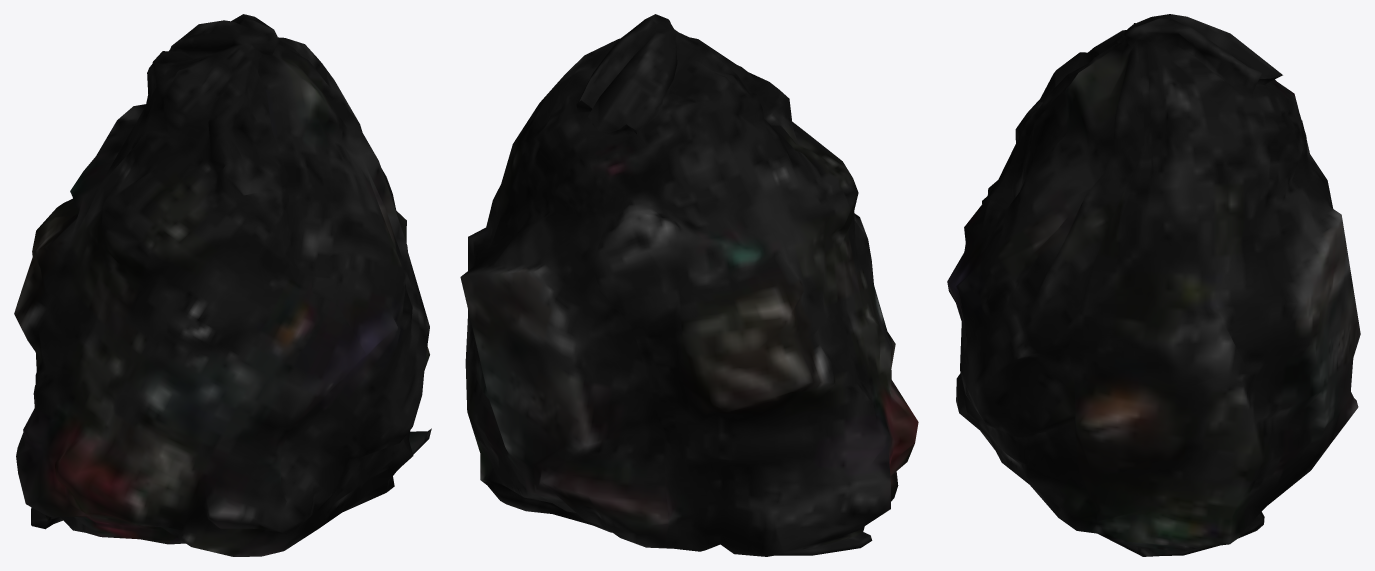
The model's file is trashbag.glb.
The picture shows the model from 3 angles, left to right: view 1: azimuth 30°, elevation 25°; view 2: azimuth 150°, elevation 25°; view 3: azimuth 270°, elevation 25°; orthographic projection. The views are drawn at different scales.
Visible parts, largest first — view 1: trashbag; view 2: trashbag; view 3: trashbag.
Part boxes in pixels (bbox=[...]): trashbag: bbox=[14, 14, 431, 556]; trashbag: bbox=[460, 14, 918, 556]; trashbag: bbox=[947, 14, 1360, 556].
Size of the model in its own units: 0.5281 by 0.575 by 0.4629.
1 material, 1 textured.
